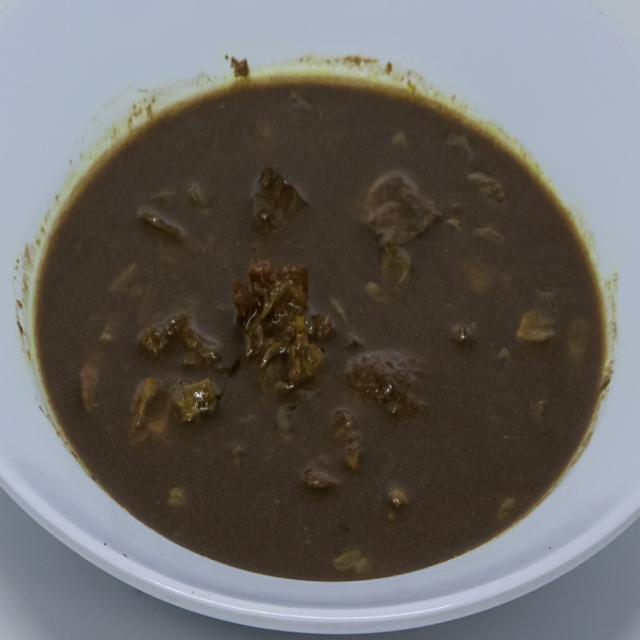Rawon-Surabaya: (23, 55, 610, 591)
